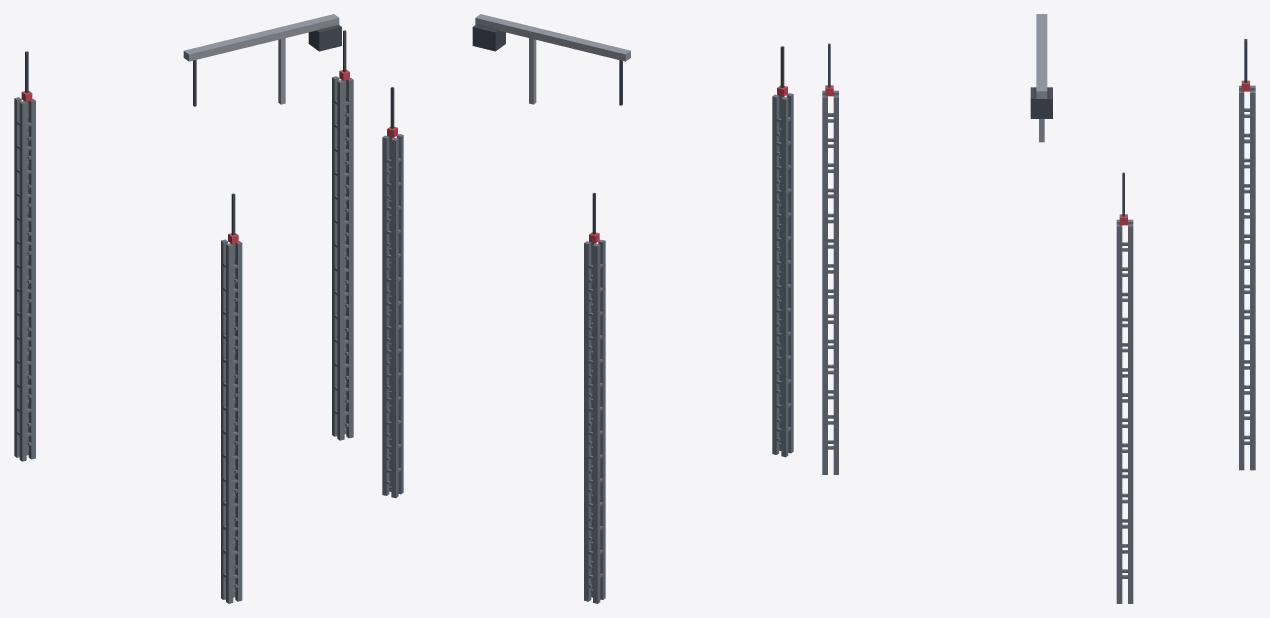
File: pad_e5_l3.glb
The picture shows the model from 3 angles, left to right: view 1: azimuth 30°, elevation 25°; view 2: azimuth 150°, elevation 25°; view 3: azimuth 270°, elevation 25°; orthographic projection. The views are drawn at different scales.
Parts seen in each view (by area): view 1: Base; view 2: Base; view 3: Base.
Part boxes in pixels (x1,y1,x2,y2): Base: [14, 14, 353, 603]; Base: [382, 14, 793, 603]; Base: [822, 14, 1255, 603].
Bounding box in the file's own units: 12 × 19.3 × 15.6.
